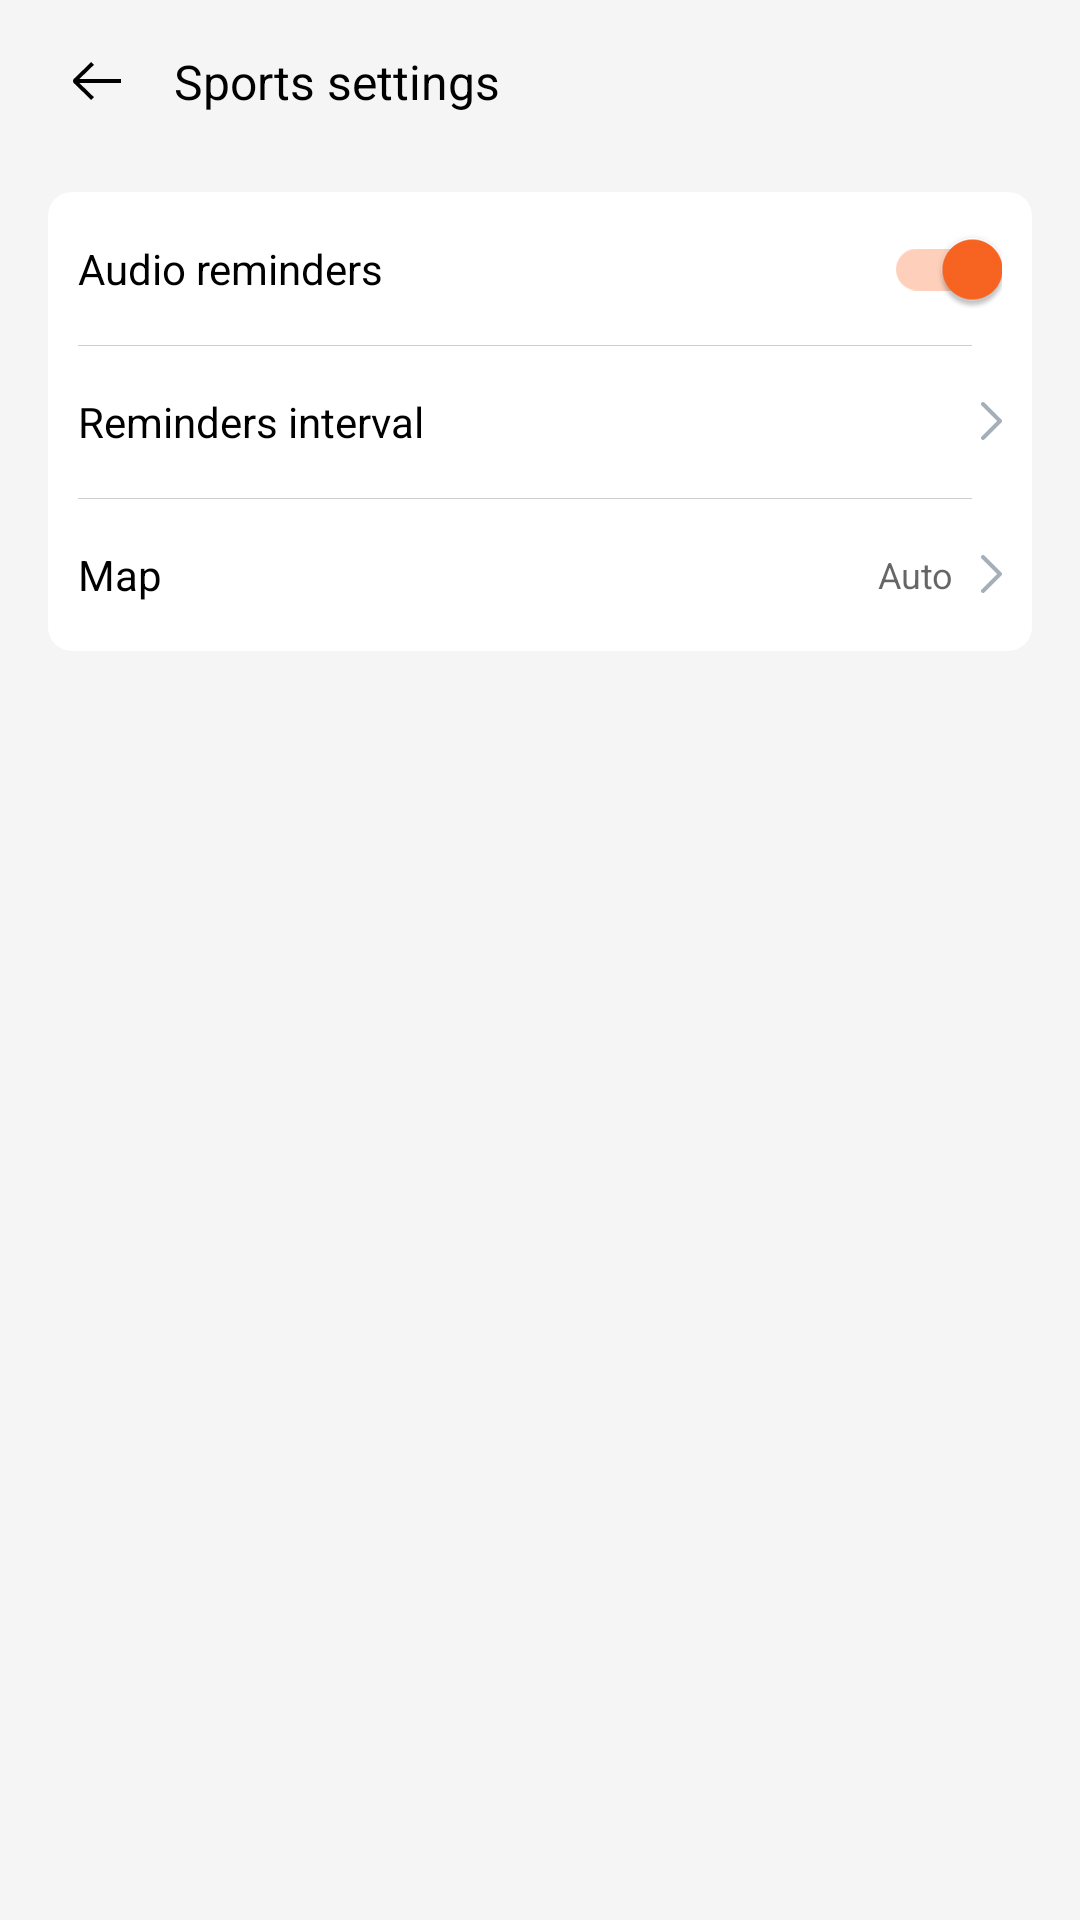

Icons on this 1080 x 1920 Android screen, each with its box as [x1,y1,x2,y2]:
left: [73,62,121,100]
